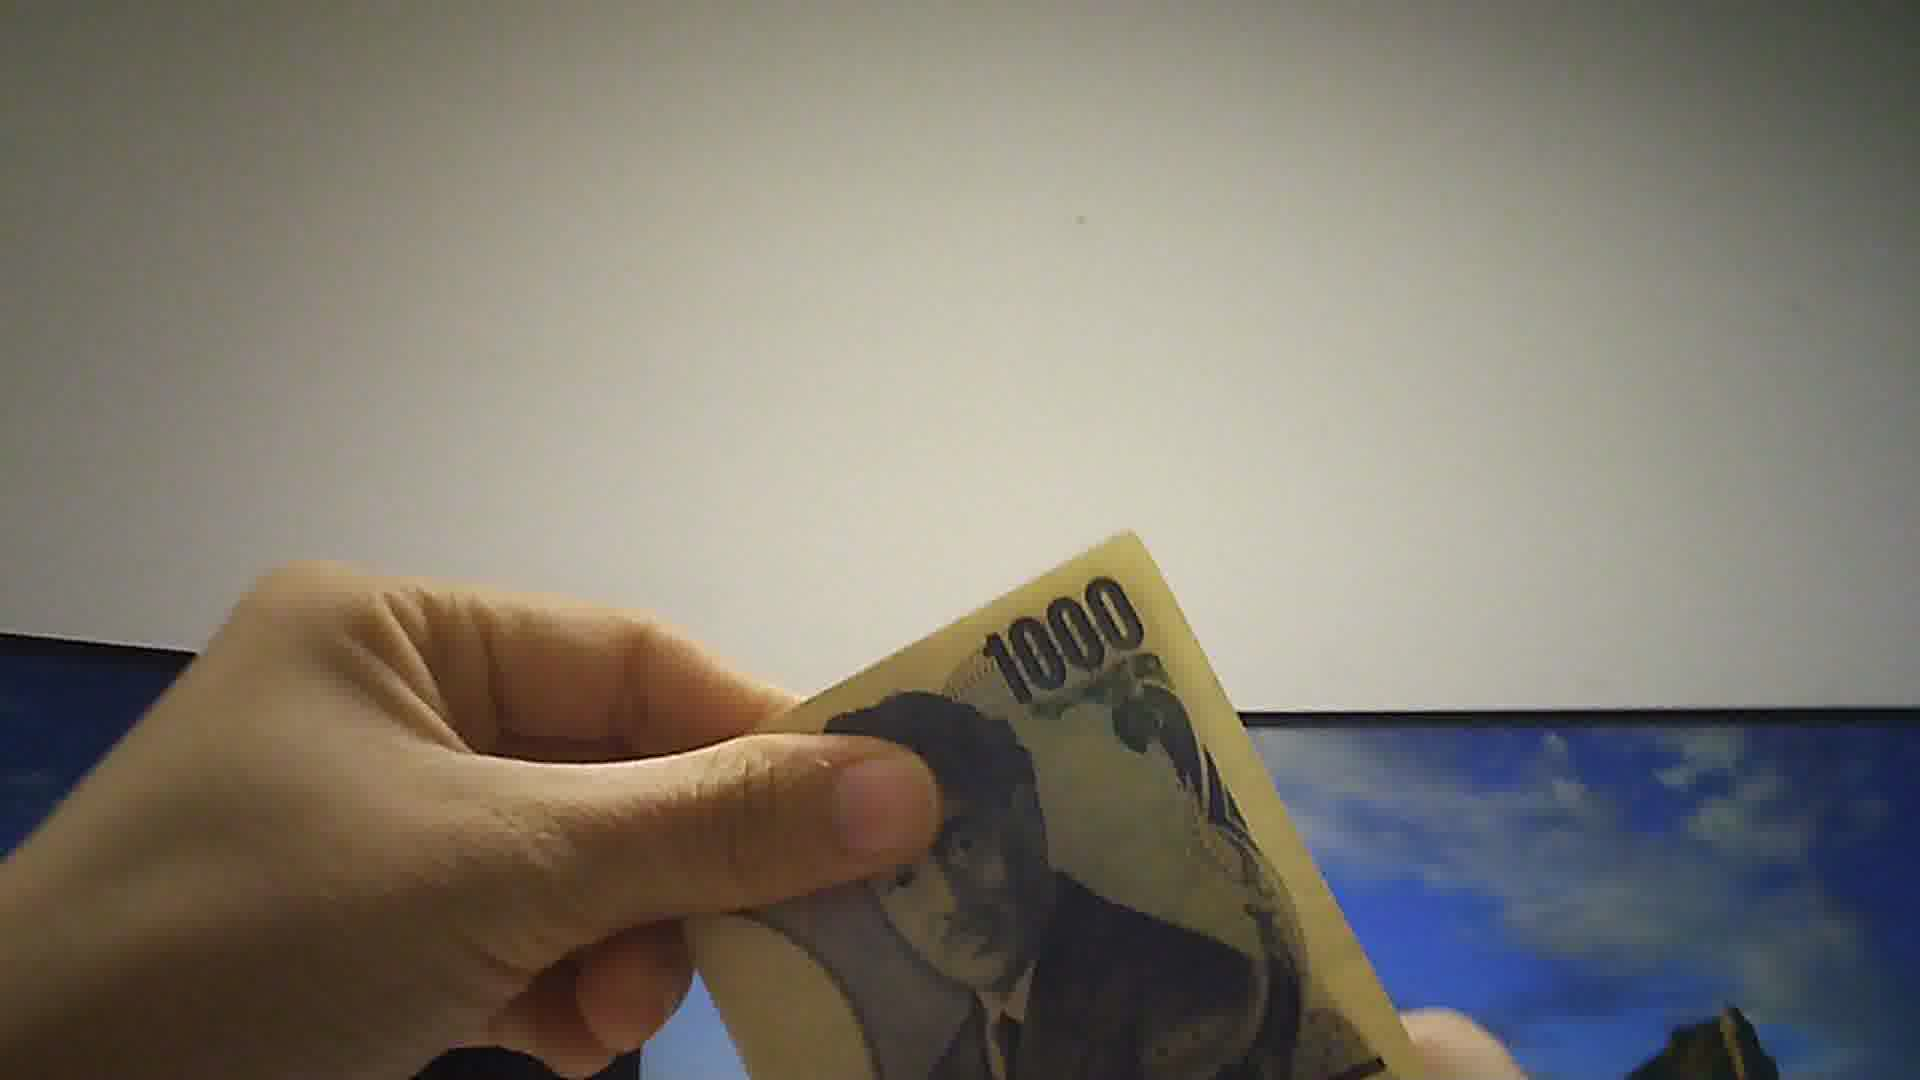1,000 Yen: (609, 506, 1423, 1079)
